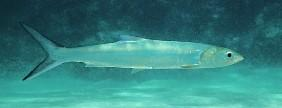Indo-Pacific Tarpon: (6, 21, 244, 82)
